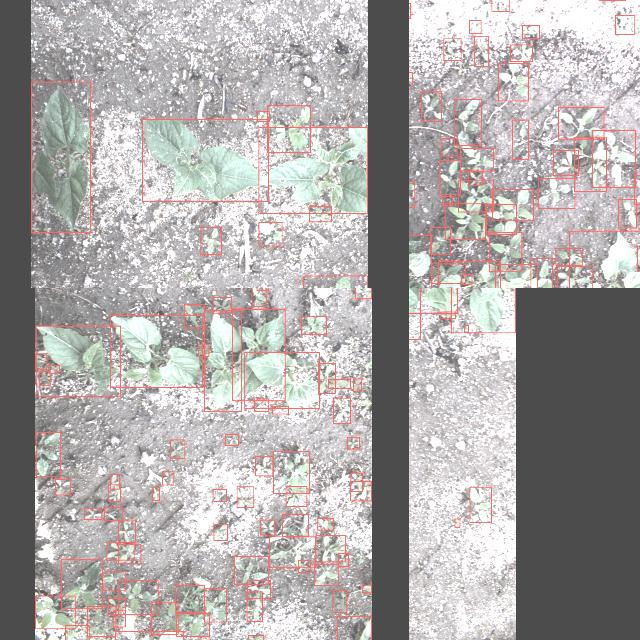crop: (142, 119, 268, 201), (258, 127, 368, 213), (31, 81, 91, 232), (110, 315, 202, 387), (36, 326, 120, 396), (232, 309, 286, 401), (244, 352, 320, 408), (569, 231, 640, 288), (204, 310, 242, 412), (450, 288, 515, 332), (438, 260, 500, 288), (409, 288, 457, 313), (409, 235, 430, 288), (495, 264, 537, 288), (336, 615, 371, 640), (115, 631, 183, 640)
weed: (592, 130, 636, 188), (60, 560, 101, 608), (268, 106, 310, 152), (574, 137, 606, 191), (272, 451, 310, 493), (444, 204, 486, 240), (558, 107, 604, 139), (270, 536, 316, 568), (488, 232, 522, 272), (118, 580, 158, 614), (454, 99, 482, 145), (35, 596, 75, 628), (492, 190, 534, 220), (458, 180, 494, 212), (498, 64, 528, 100), (538, 178, 574, 208), (36, 432, 60, 476), (234, 556, 268, 584), (486, 204, 516, 234), (150, 603, 178, 635), (86, 606, 115, 636), (470, 487, 492, 523), (176, 585, 204, 613), (316, 536, 346, 562), (557, 266, 592, 288), (303, 276, 367, 288), (460, 148, 494, 170), (204, 588, 226, 622), (177, 614, 210, 636), (438, 160, 459, 194), (531, 258, 553, 288), (432, 264, 464, 284), (554, 150, 578, 176), (512, 120, 528, 158), (421, 92, 441, 122), (200, 228, 222, 255), (282, 514, 308, 536), (258, 222, 282, 245), (619, 198, 637, 228), (430, 228, 450, 255), (318, 363, 336, 393), (314, 564, 338, 586), (106, 542, 134, 560), (184, 304, 204, 328), (556, 248, 582, 266), (334, 398, 351, 424), (118, 544, 140, 564), (302, 316, 326, 334), (102, 572, 126, 590), (474, 36, 488, 66), (351, 481, 372, 501), (248, 592, 262, 622), (286, 486, 306, 506), (248, 580, 270, 598), (444, 38, 461, 61), (308, 206, 332, 222), (510, 44, 532, 61), (615, 16, 635, 34), (236, 487, 254, 507), (65, 625, 89, 640), (118, 520, 134, 542), (255, 456, 272, 476), (212, 298, 232, 314), (333, 590, 347, 612), (440, 138, 456, 156), (108, 598, 125, 614), (170, 439, 184, 458), (54, 479, 70, 495), (252, 288, 266, 306), (214, 524, 228, 540), (522, 26, 540, 38), (351, 473, 363, 491), (84, 508, 102, 520), (108, 484, 120, 502), (104, 508, 122, 520), (329, 379, 351, 388), (468, 171, 482, 185), (261, 520, 275, 534), (34, 354, 46, 370), (318, 518, 334, 530), (113, 610, 125, 626), (491, 0, 508, 11), (634, 175, 640, 205), (254, 399, 268, 411), (213, 489, 227, 501), (356, 288, 372, 298), (39, 370, 49, 386), (110, 474, 120, 490), (469, 21, 481, 34), (348, 437, 360, 449), (226, 434, 238, 446), (298, 560, 310, 572), (339, 553, 349, 567), (409, 181, 414, 207), (273, 406, 289, 414), (257, 111, 269, 121), (198, 344, 208, 356), (163, 472, 173, 484), (353, 379, 362, 391), (442, 196, 452, 206), (461, 274, 471, 284), (49, 364, 59, 374), (152, 488, 160, 500), (440, 312, 456, 318), (362, 585, 372, 593), (248, 635, 263, 640), (637, 246, 640, 269), (409, 72, 412, 86), (456, 519, 460, 527), (465, 326, 469, 332), (409, 3, 410, 18)
